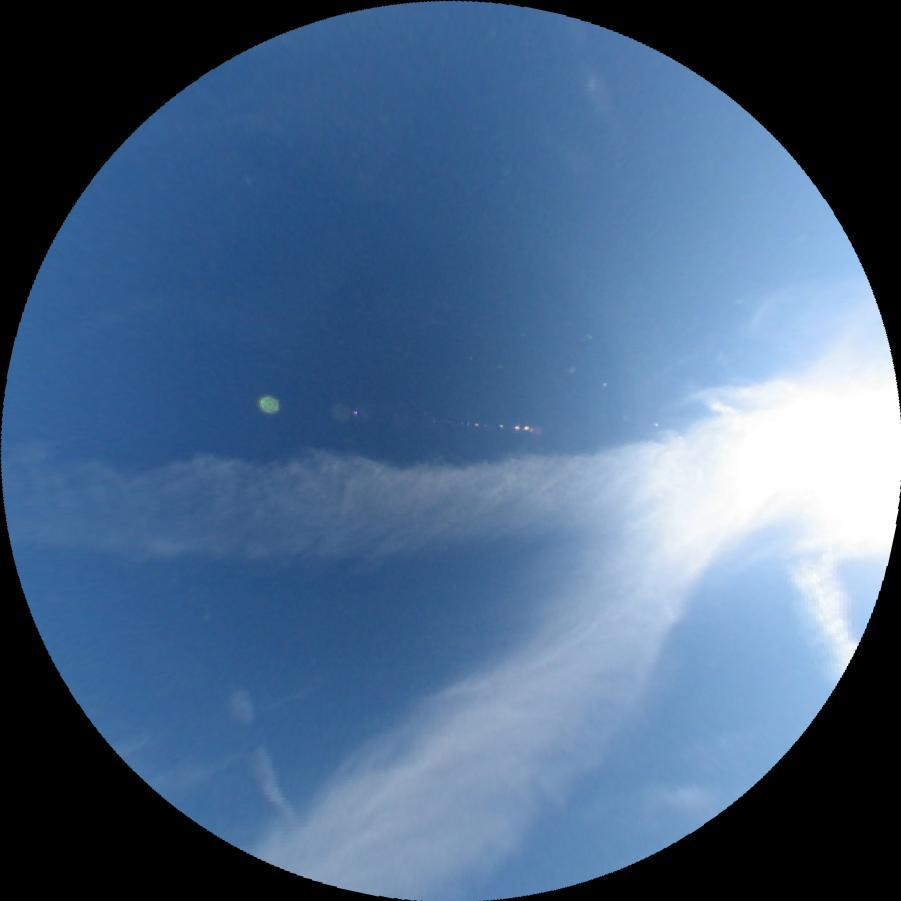contrail veryold: (4, 430, 685, 561), (785, 552, 865, 685)
unknow: (224, 686, 299, 831)
